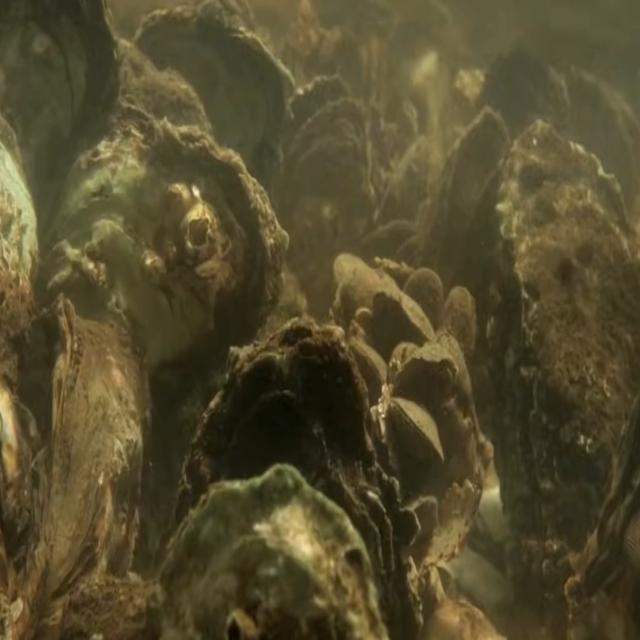Oyster-Closed: (56, 116, 290, 530), (181, 315, 421, 640), (485, 118, 640, 560), (152, 463, 390, 640), (389, 397, 444, 460), (395, 354, 459, 402)
Oyster-Indeterminate: (22, 293, 151, 640), (428, 103, 513, 334), (372, 286, 435, 340), (404, 266, 444, 338), (443, 285, 476, 360)
Oyster-Open: (271, 74, 368, 286)
